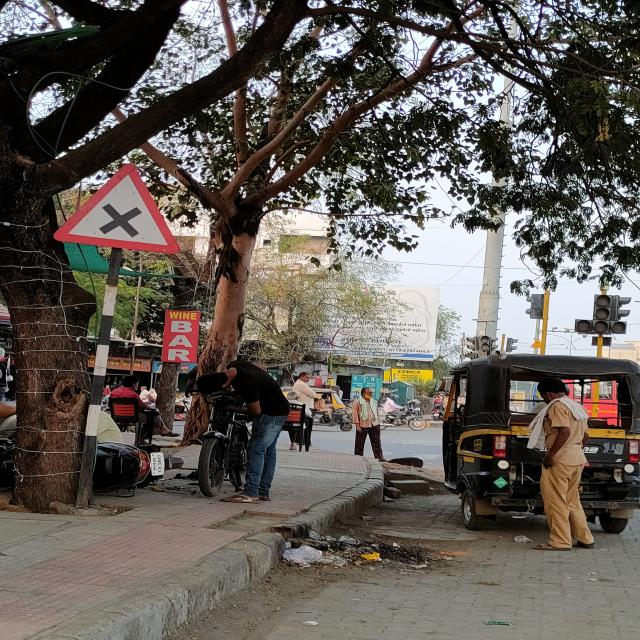cross_road: (54, 164, 180, 254)
